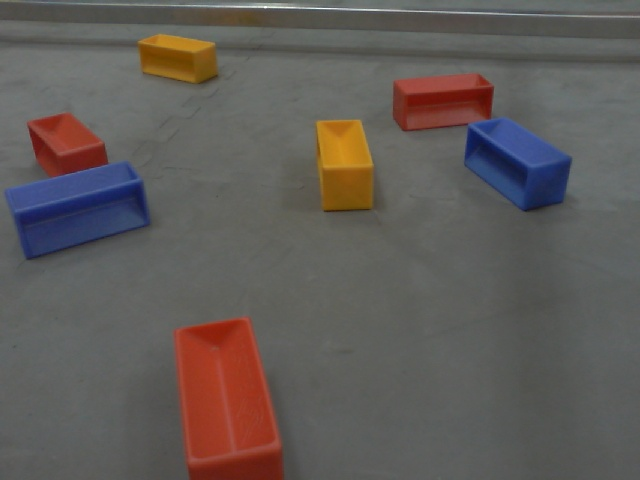BlueSample: (2, 158, 152, 262), (458, 113, 577, 215)
RedSample: (170, 311, 294, 479), (391, 70, 496, 132), (21, 108, 110, 181)
YellowSample: (312, 116, 378, 215), (133, 30, 220, 85)
